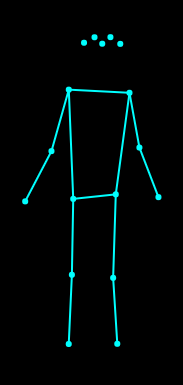mountain: (17, 31, 164, 350)
